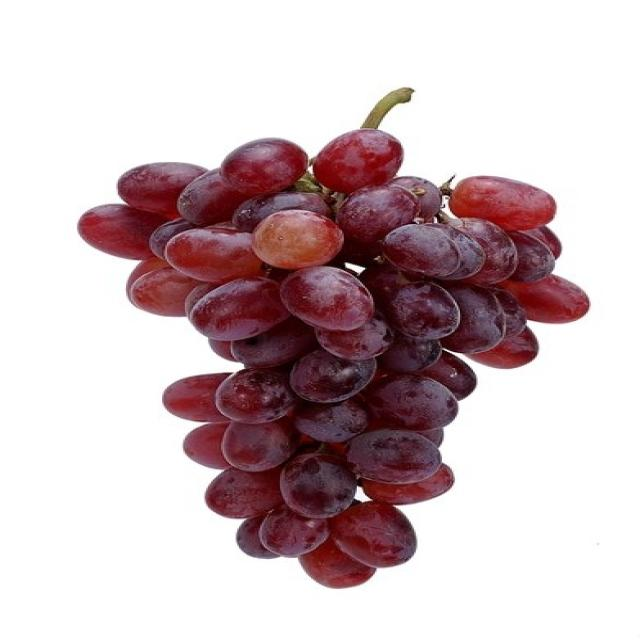grape: (77, 87, 586, 586)
